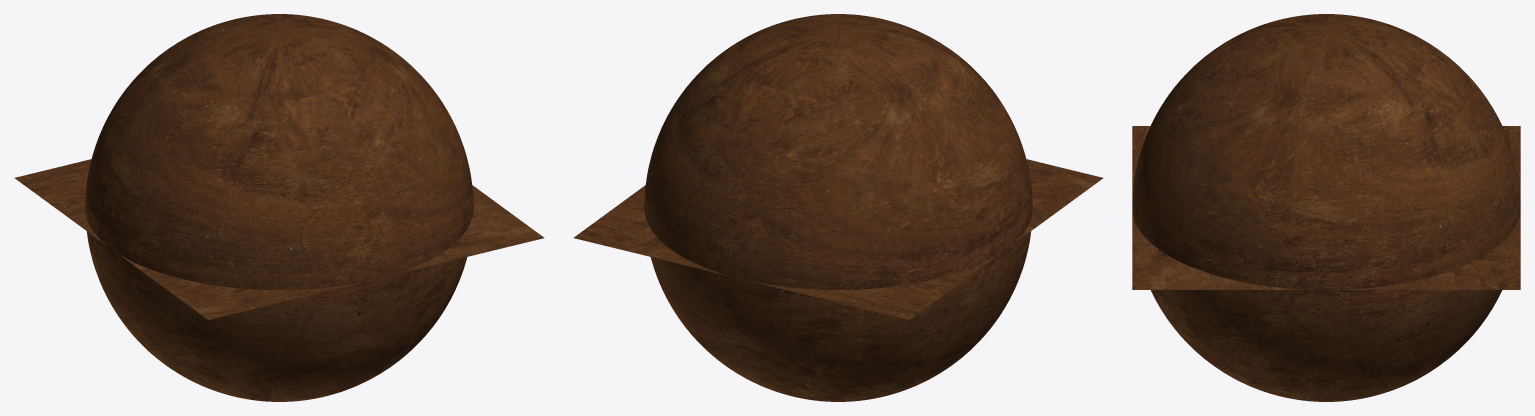
The model's file is wood_table_worn_2k.fbx.
3 views of the same model, side by side, from view 1: azimuth 30°, elevation 25°; view 2: azimuth 150°, elevation 25°; view 3: azimuth 270°, elevation 25° (orthographic).
Parts seen in each view (by area): view 1: Sphere, Plane; view 2: Sphere, Plane; view 3: Sphere, Plane.
Part boxes in pixels (<box>): Sphere: <box>85,14,473,401</box>; Plane: <box>14,159,544,319</box>; Sphere: <box>644,14,1032,401</box>; Plane: <box>573,159,1103,319</box>; Sphere: <box>1132,14,1520,401</box>; Plane: <box>1132,126,1520,289</box>.
Bounding box in the file's own units: 55 × 55 × 55.
